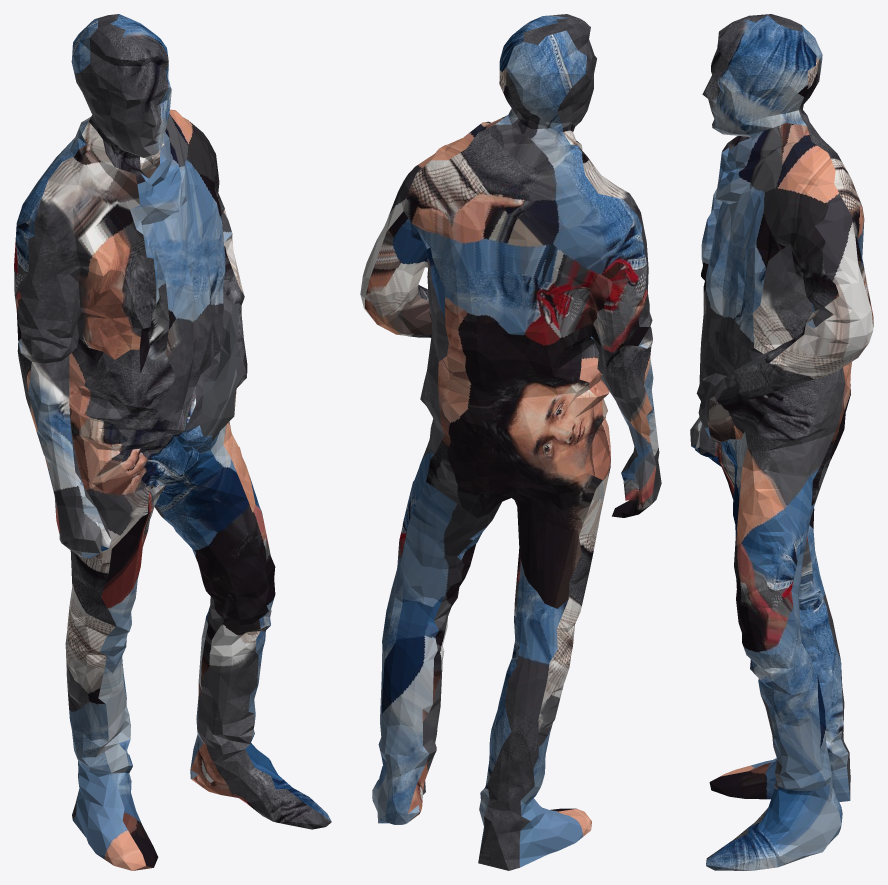
3 views of the same model, side by side, from view 1: azimuth 30°, elevation 25°; view 2: azimuth 150°, elevation 25°; view 3: azimuth 270°, elevation 25° (orthographic). The views are drawn at different scales.
Parts seen in each view (by area): view 1: mn_1; view 2: mn_1; view 3: mn_1.
Part boxes in pixels (x1,y1,x2,y2): mn_1: [14, 14, 331, 870]; mn_1: [360, 14, 661, 870]; mn_1: [690, 14, 873, 870].
Size of the model in its own units: 0.5976 by 1.66 by 0.3593.
Materials: 1 (1 with a texture image).
